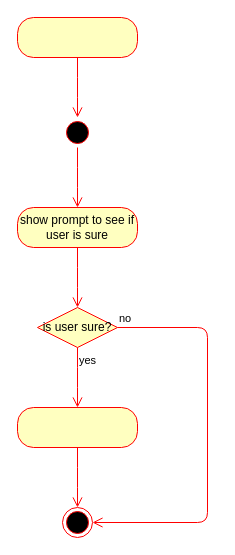
Image size: 235x555. Some labels were removed from this diagram. Each missing label, with the centre of its shape:
"Categories deleted successfully" goes at point (77, 427).
"clicking on delete contact button" goes at point (77, 37).
